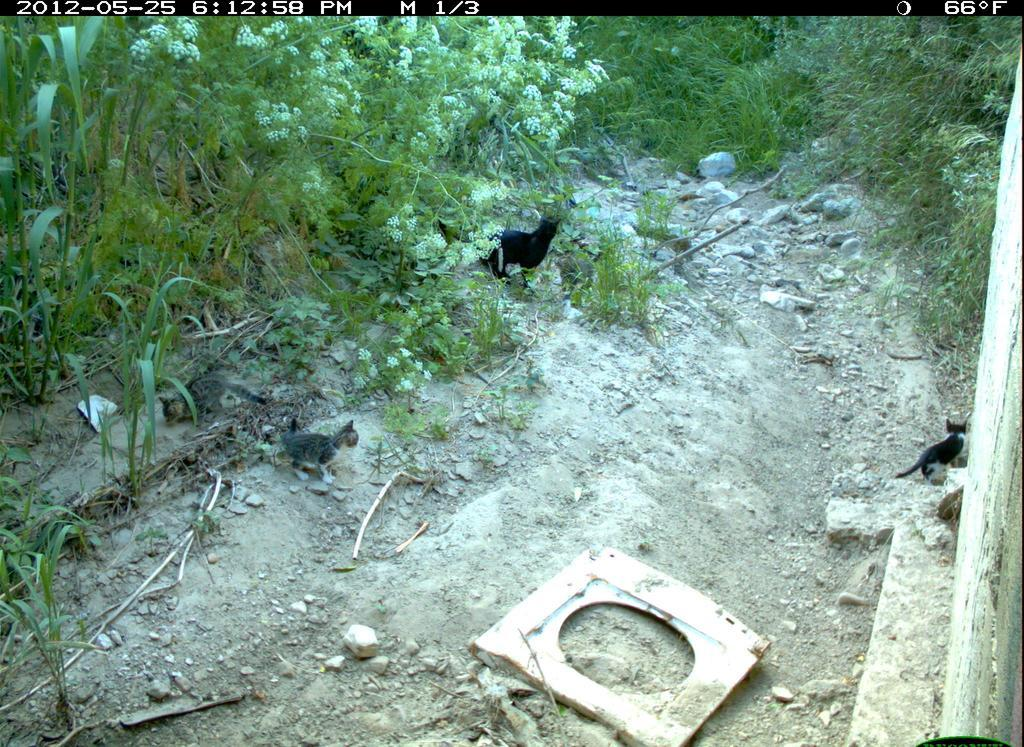cat: (463, 213, 565, 299), (154, 370, 276, 429), (282, 411, 367, 491), (893, 418, 971, 491)
